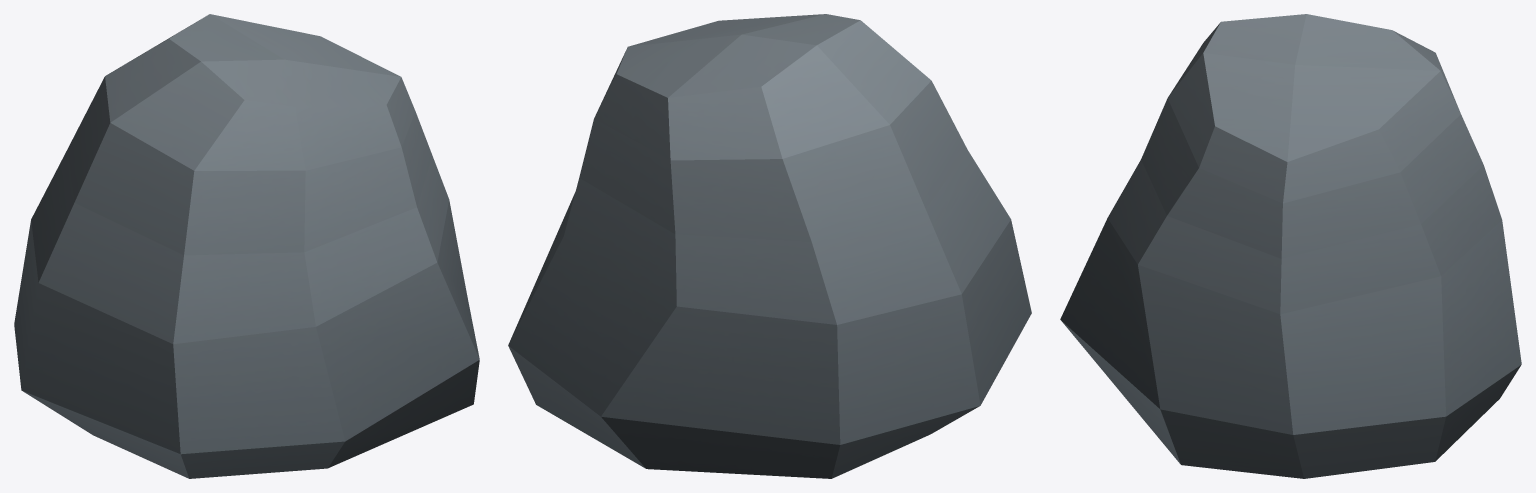
File: skała3.fbx
The picture shows the model from 3 angles, left to right: view 1: azimuth 30°, elevation 25°; view 2: azimuth 150°, elevation 25°; view 3: azimuth 270°, elevation 25°; orthographic projection. The views are drawn at different scales.
Visible parts, largest first — view 1: skała3; view 2: skała3; view 3: skała3.
Part boxes in pixels (<box>): skała3: <box>14,14,479,478</box>; skała3: <box>508,14,1031,478</box>; skała3: <box>1060,14,1521,478</box>.
Bounding box in the file's own units: 546 × 429 × 509.
